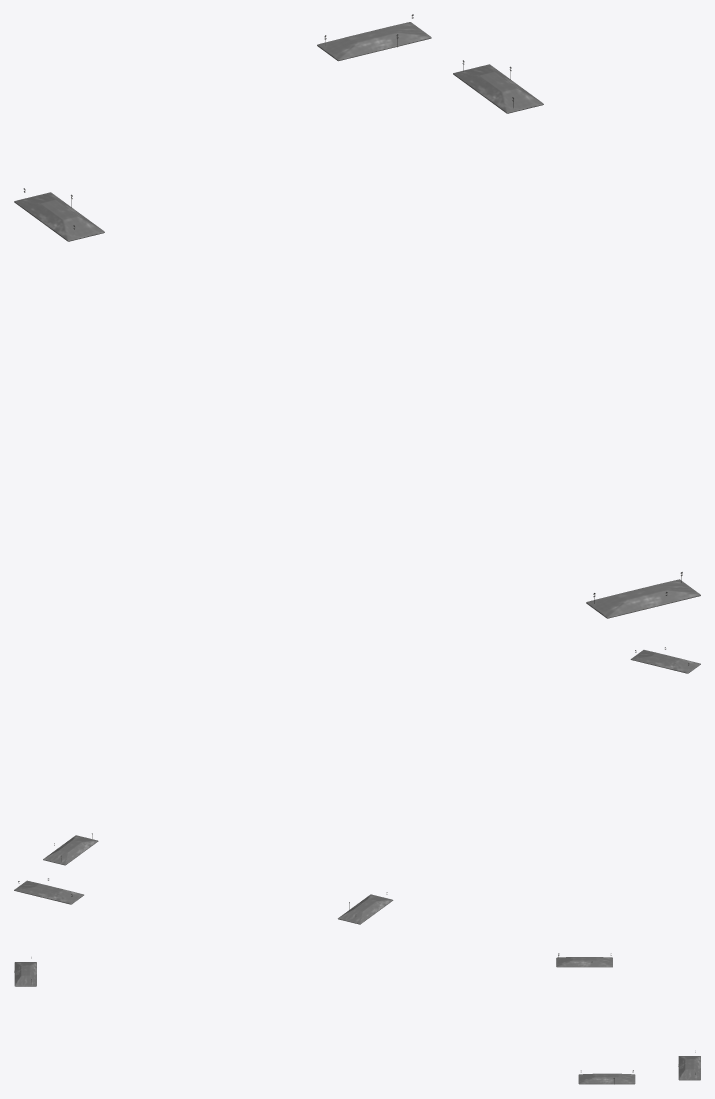
File: Volume.glb
The picture shows the model from 3 angles, top to bottom: view 1: azimuth 30°, elevation 25°; view 2: azimuth 150°, elevation 25°; view 3: azimuth 270°, elevation 25°; orthographic projection. The views are drawn at different scales.
Visible parts, largest first — view 1: Volume_Mesher_1__0; view 2: Volume_Mesher_1__0; view 3: Volume_Mesher_1__0.
Part boxes in pixels (x1,y1,x2,y2): Volume_Mesher_1__0: (14, 14, 700, 618); Volume_Mesher_1__0: (14, 647, 700, 924); Volume_Mesher_1__0: (14, 953, 700, 1084).
Bounding box in the file's own units: 146 × 3.72 × 334.
Materials: 1 (1 with a texture image).
